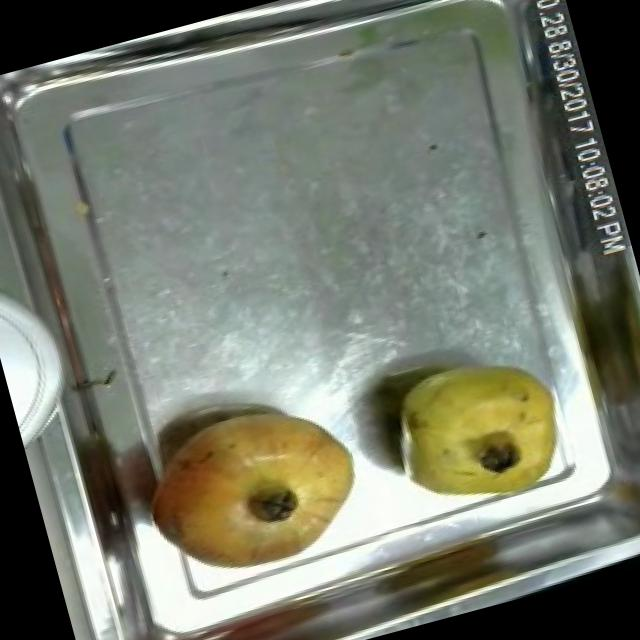fruit: (118, 378, 385, 604), (368, 336, 584, 529)
